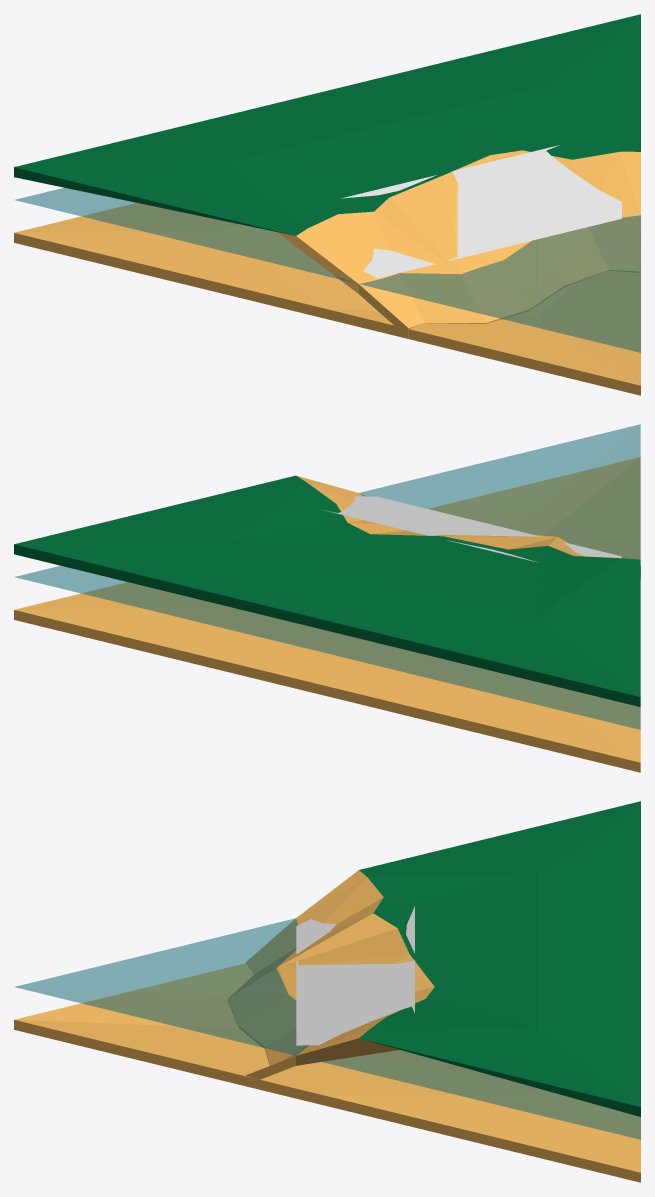
File: tile5.glb
The picture shows the model from 3 angles, top to bottom: view 1: azimuth 30°, elevation 25°; view 2: azimuth 150°, elevation 25°; view 3: azimuth 270°, elevation 25°; orthographic projection.
Visible parts, largest first — view 1: ground.020, sand5.001, water5.001, grass5.001; view 2: ground.020, sand5.001, water5.001, grass5.001; view 3: ground.020, sand5.001, water5.001, grass5.001.
Part boxes in pixels (x1,y1,x2,y2): ground.020: [14, 14, 640, 338]; sand5.001: [14, 203, 640, 395]; water5.001: [15, 187, 640, 352]; grass5.001: [341, 145, 621, 278]; ground.020: [14, 475, 640, 706]; sand5.001: [14, 457, 640, 772]; water5.001: [15, 424, 640, 729]; grass5.001: [323, 496, 621, 562]; ground.020: [227, 801, 640, 1116]; sand5.001: [14, 963, 640, 1182]; water5.001: [15, 918, 640, 1139]; grass5.001: [296, 906, 414, 1045].
Size of the model in its own units: 1 by 0.1203 by 0.866.
